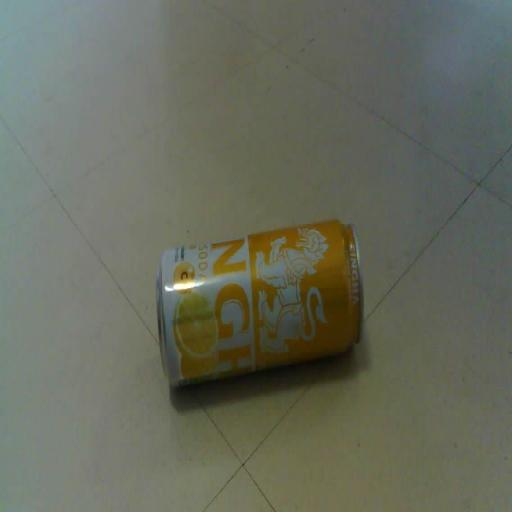canned: (138, 220, 379, 399)
